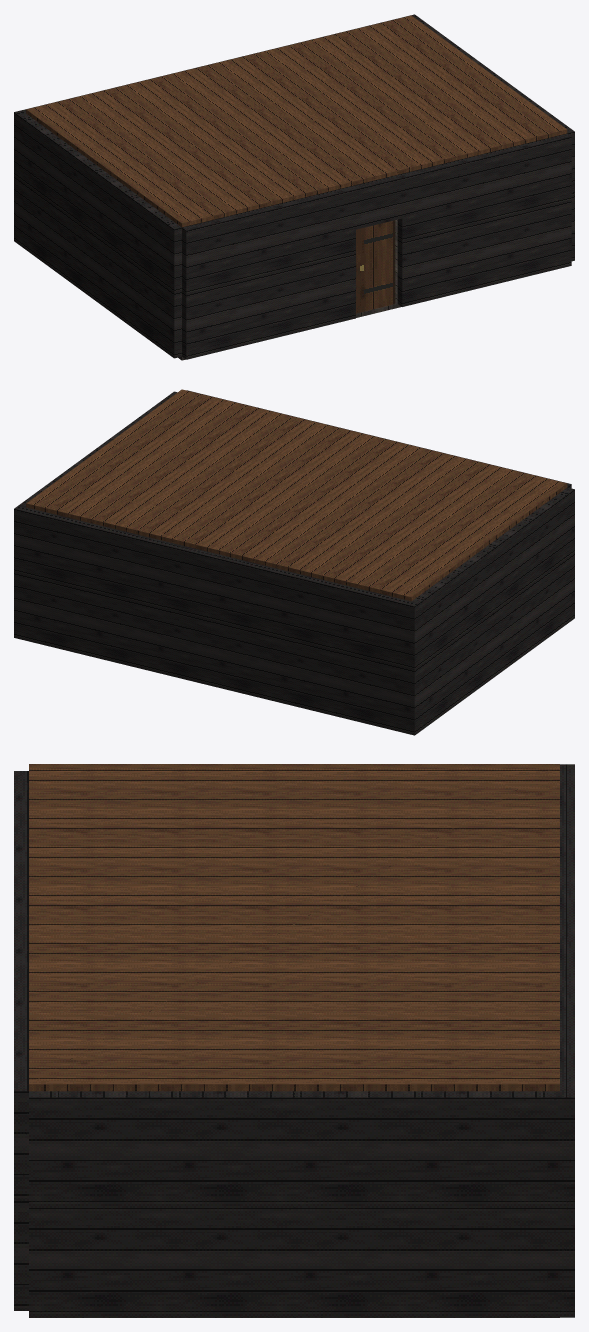
File: taberna_dentro.obj
The picture shows the model from 3 angles, top to bottom: view 1: azimuth 30°, elevation 25°; view 2: azimuth 150°, elevation 25°; view 3: azimuth 270°, elevation 25°; orthographic projection. The views are drawn at different scales.
Visible parts, largest first — view 1: taberna_dentro; view 2: taberna_dentro; view 3: taberna_dentro.
Part boxes in pixels (<box>): taberna_dentro: <box>14,14,574,360</box>; taberna_dentro: <box>14,389,574,735</box>; taberna_dentro: <box>14,764,574,1317</box>.
Size of the model in its own units: 10.4 by 3.4 by 7.4.
Materials: 5 (5 with a texture image).
